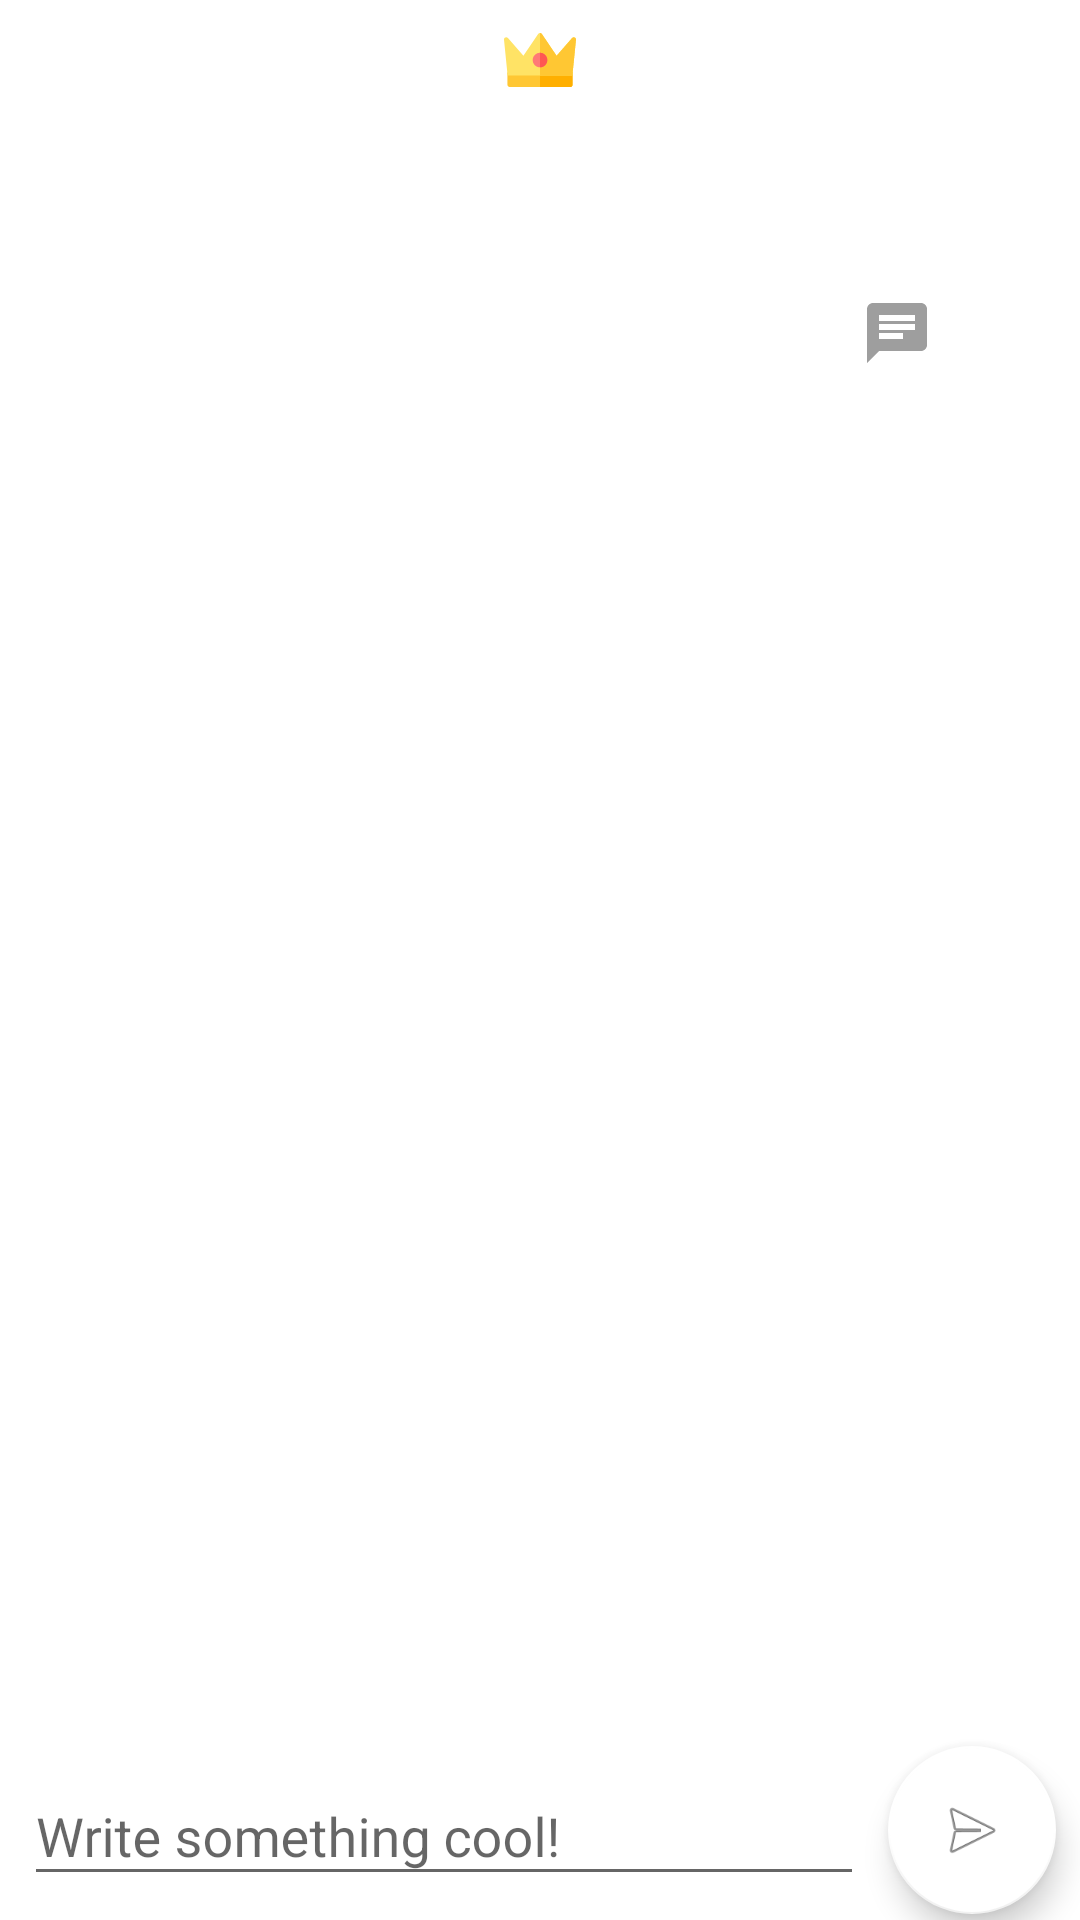

Icon bounding boxes for this 1080×1920 phone screenshot, format {"x1": x1, "y1": y1, "x2": x2, "y2": y2}:
crown: {"x1": 504, "y1": 33, "x2": 576, "y2": 87}
